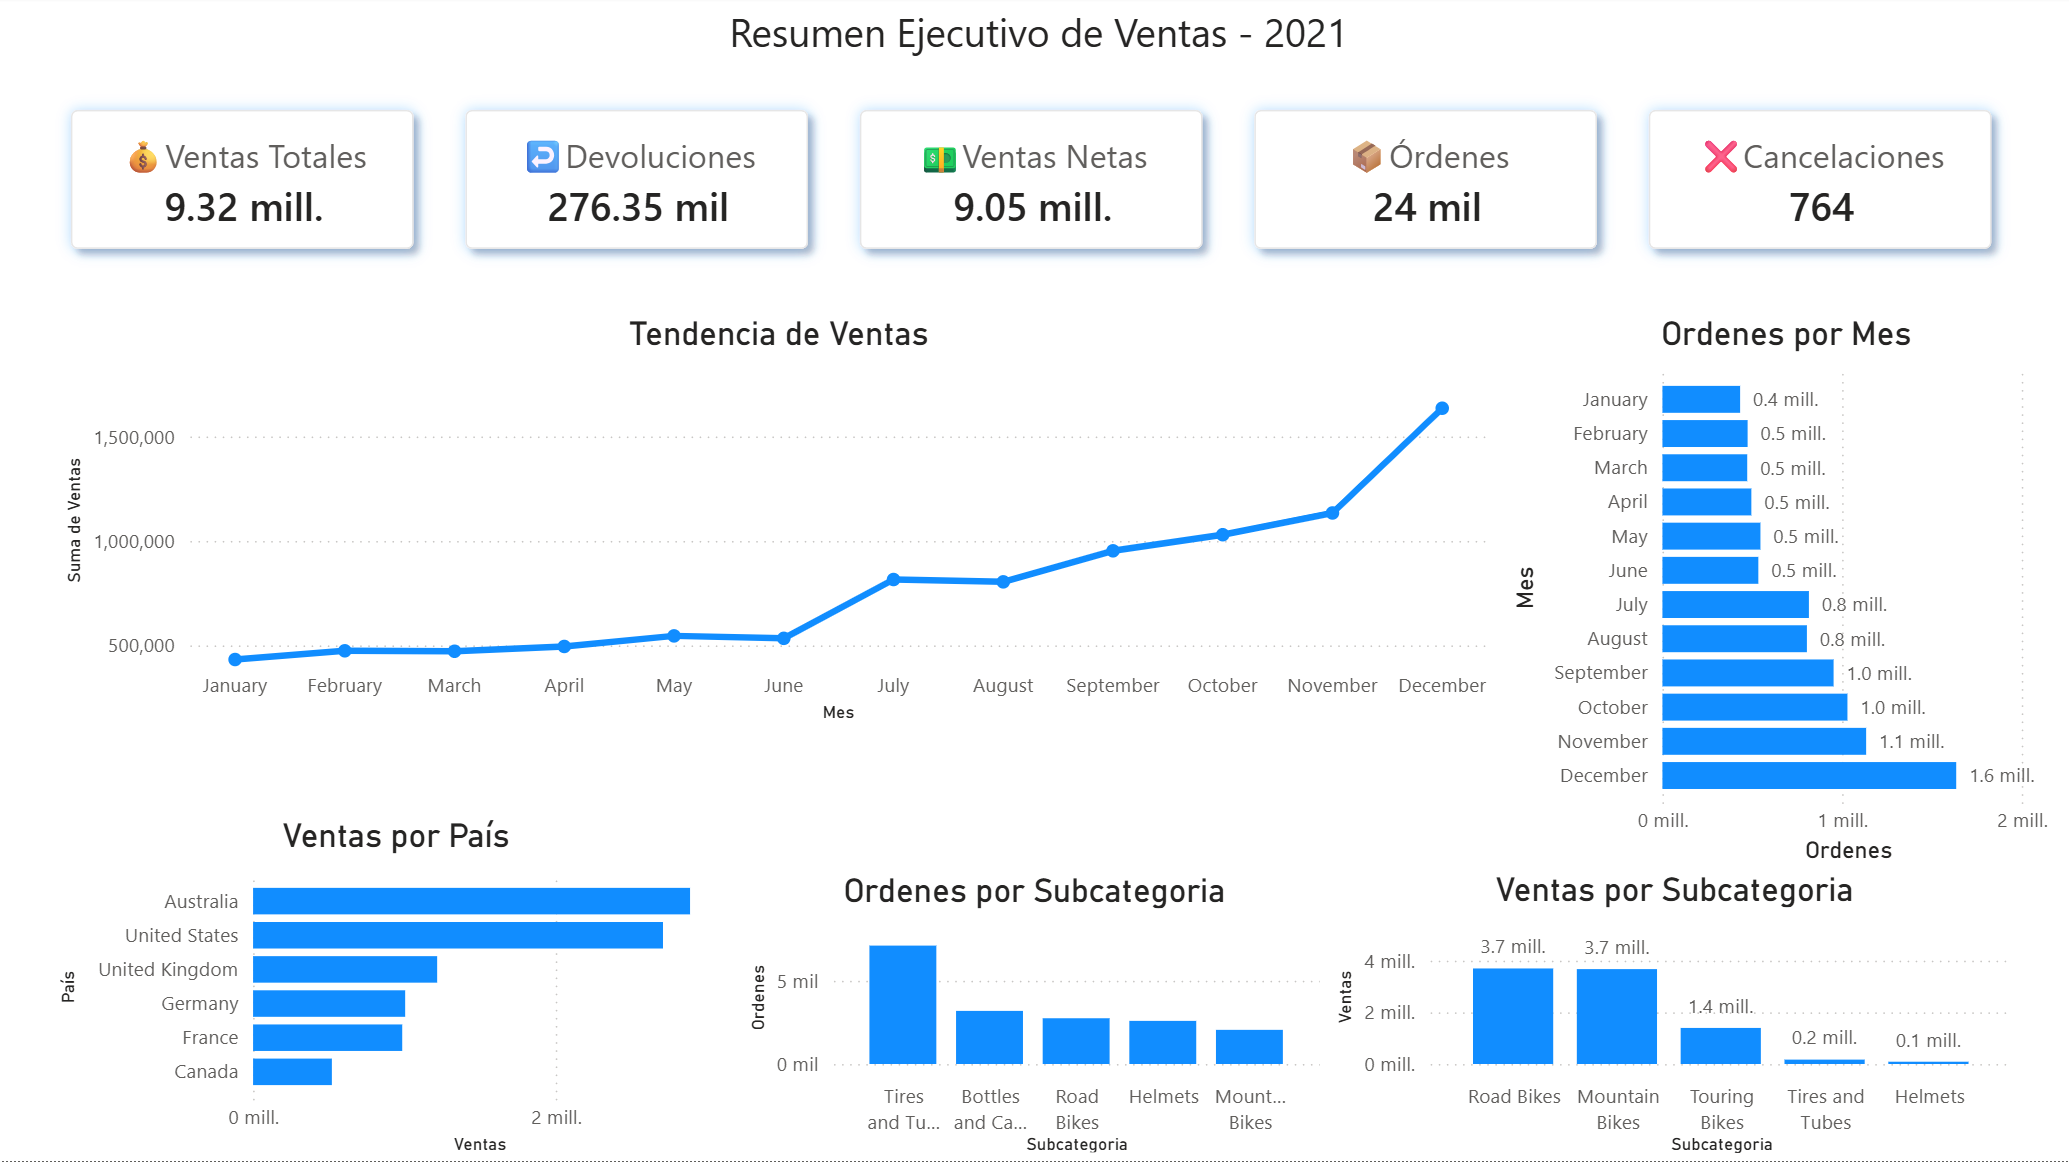

This screenshot's page, from the dashboard's own definition file:
{"tool":"powerbi","page":{"name":"Año 2021","canvas":[1280,720],"ordinal":2},"visuals":[{"type":"cardVisual","fields":{"Data":["Sum(Total_de_ventas_2021.ventas_2021)","Sum(Total_de_devoluciones_2021.Total_de_devolucion)","Sum(Total_de_ventas_menos_devoluciones_2021.ventas_2021)","Sum(Ventas_realizadas_en_2021.Ventas_realizadas_en_2021)","Sum(Devoluciones_2021.Devoluciones_2021)"]},"box":[15.1,40.6,1249.2,144.6],"z":0},{"type":"lineChart","title":"Tendencia de Ventas","fields":{"Y":["select","Sum(Total_de_ventas_por_mes_2021 (2).Ventas)"],"Category":["Total_de_ventas_por_mes_2021 (2).Mes"]},"box":[35.3,196.1,893,256.9],"z":1000},{"type":"barChart","title":"Ventas por País","fields":{"Category":["Total_por_pais_2021.Country"],"Y":["Sum(Total_por_pais_2021.Ventas)"]},"box":[31.5,506.6,426.8,213.4],"z":2000},{"type":"clusteredColumnChart","title":"Ordenes por Subcategoria","fields":{"Category":["Numero_de_Ordenes_por_Subcategoria_2021.SubcategoryName"],"Y":["Sum(Numero_de_Ordenes_por_Subcategoria_2021.ordenes_por_subcategoria)"]},"box":[458.4,540.6,363.1,179.4],"z":3000},{"type":"columnChart","fields":{"Y":["Sum(Total_por_subcategoria_2021.Total_por_subcategoria)"],"Category":["Total_por_subcategoria_2021.SubcategoryName"]},"box":[821.4,540,428.7,180],"z":4000},{"type":"textbox","box":[399.2,0,486.9,45.2],"z":5000},{"type":"barChart","title":"Ordenes por Mes","fields":{"Y":["Sum(Total_de_ventas_por_mes_2021 (2).Ventas)"],"Category":["Numero_de_ordenes_por_mes_2020.Mes"]},"box":[930.3,196.1,349.5,344.5],"z":6000}]}

Visuals, with their boxes in screenshot pixels (x1, y1, x2, y2), scaled from the page's 1280x720 canvas onto the 2069x1162 screenshot:
cardVisual - Sum(Total_de_ventas_2021.ventas_2021) x Sum(Total_de_devoluciones_2021.Total_de_devolucion): [24,66,2044,299]
"Tendencia de Ventas" lineChart: [57,316,1501,731]
"Ventas por País" barChart: [51,818,741,1161]
"Ordenes por Subcategoria" clusteredColumnChart: [741,872,1328,1161]
columnChart - Sum(Total_por_subcategoria_2021.Total_por_subcategoria) x Total_por_subcategoria_2021.SubcategoryName: [1328,872,2021,1161]
textbox: [645,0,1432,73]
"Ordenes por Mes" barChart: [1504,316,2068,872]
